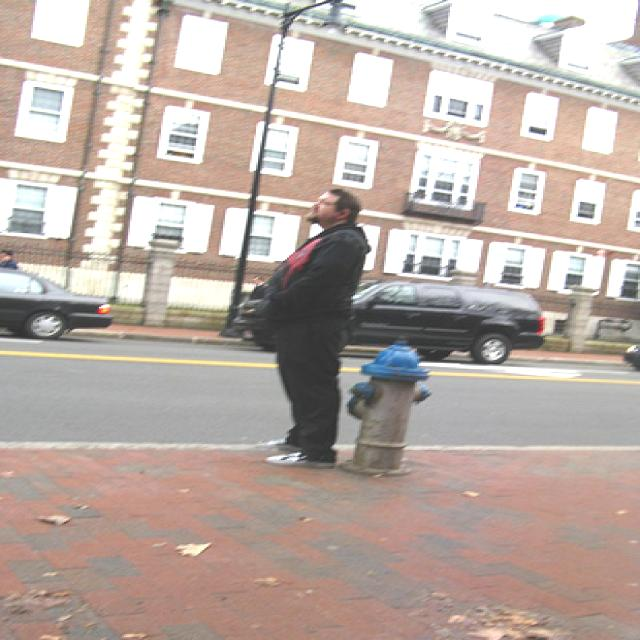Vehicle: (232, 278, 544, 366), (0, 268, 116, 338)
